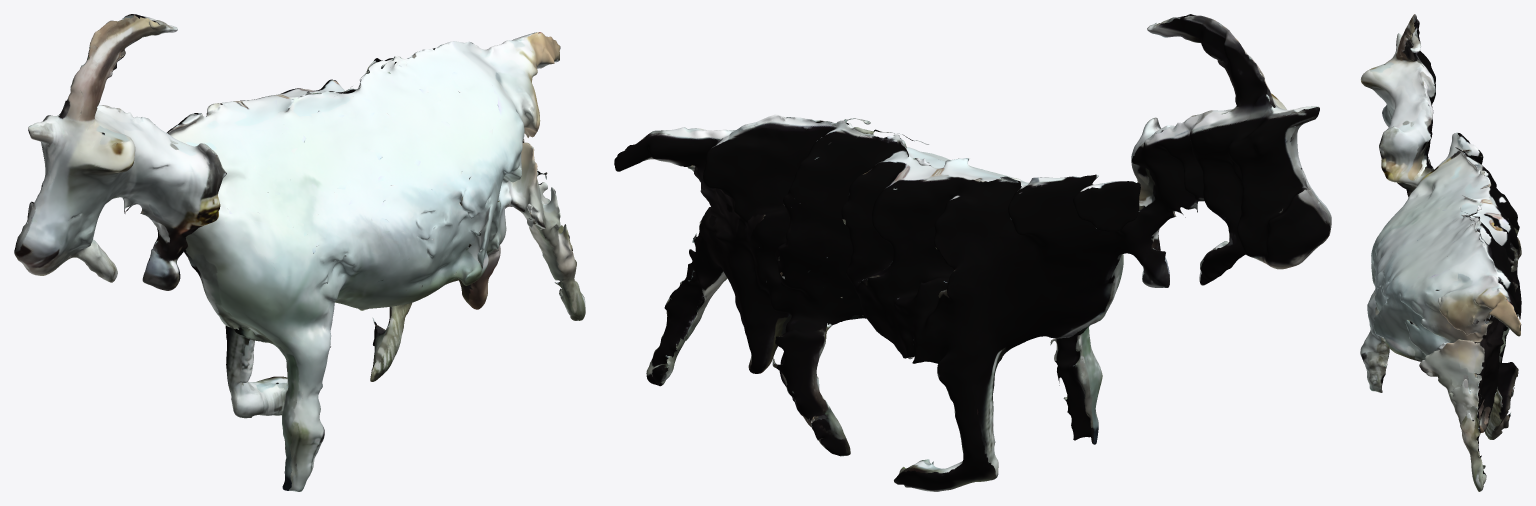
File: adulto.glb
The picture shows the model from 3 angles, left to right: view 1: azimuth 30°, elevation 25°; view 2: azimuth 150°, elevation 25°; view 3: azimuth 270°, elevation 25°; orthographic projection. The views are drawn at different scales.
Parts seen in each view (by area): view 1: mesh; view 2: mesh; view 3: mesh.
Boxes of the visible parts, x1,y1,x2,y2 form: mesh: [14, 14, 585, 491]; mesh: [614, 14, 1331, 491]; mesh: [1360, 14, 1521, 491].
Bounding box in the file's own units: 1.69 × 1.25 × 0.5564.
1 material, 1 textured.
